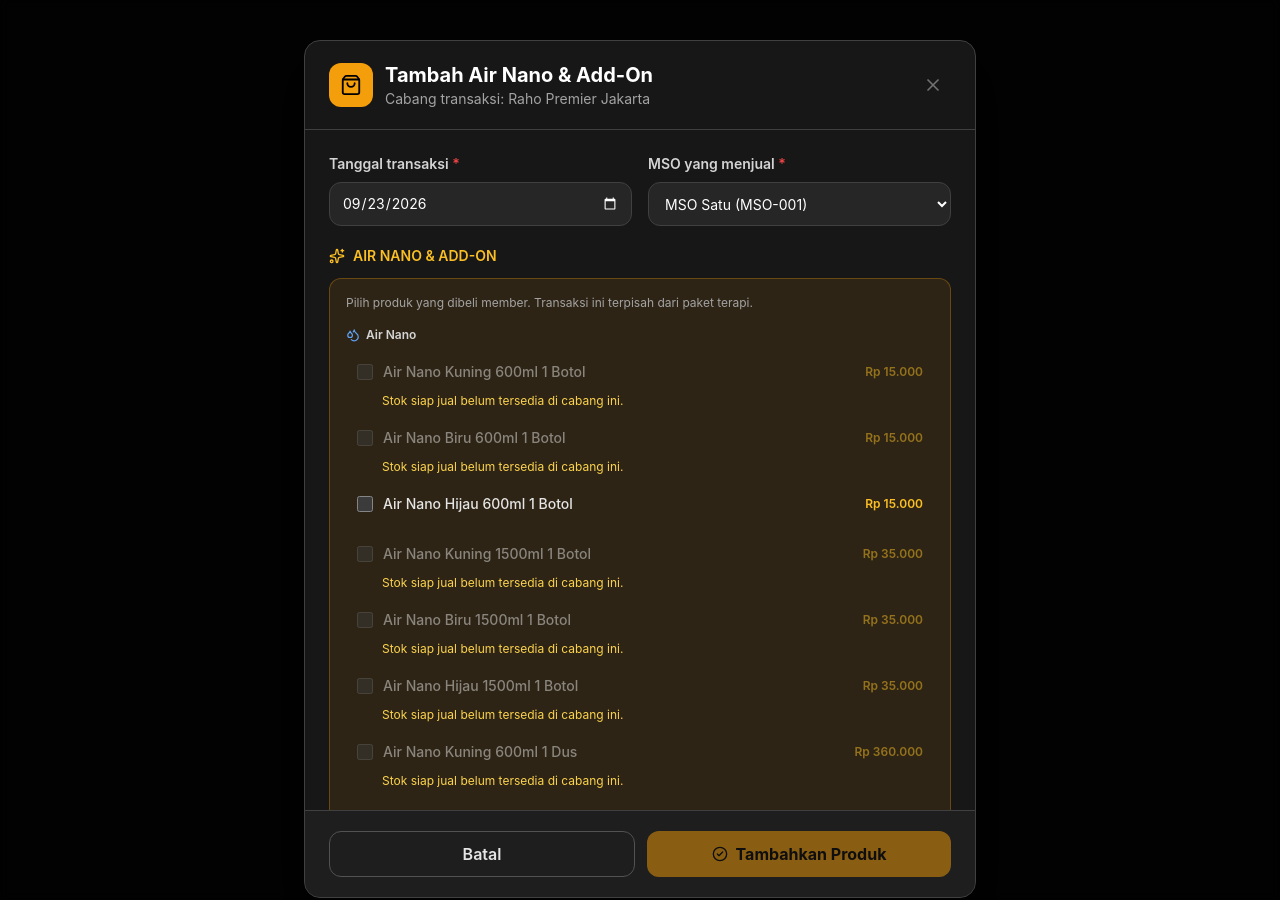
Test case: AssignAddOnModal › shows green Air Nano without H2S and enables it from HJU availability
The image size is (1280, 900).
Click the checkbox labelled "Air Nano Hijau 600ml 1 Botol Rp 15.000".
click(365, 504)  # box [357,496,373,512]
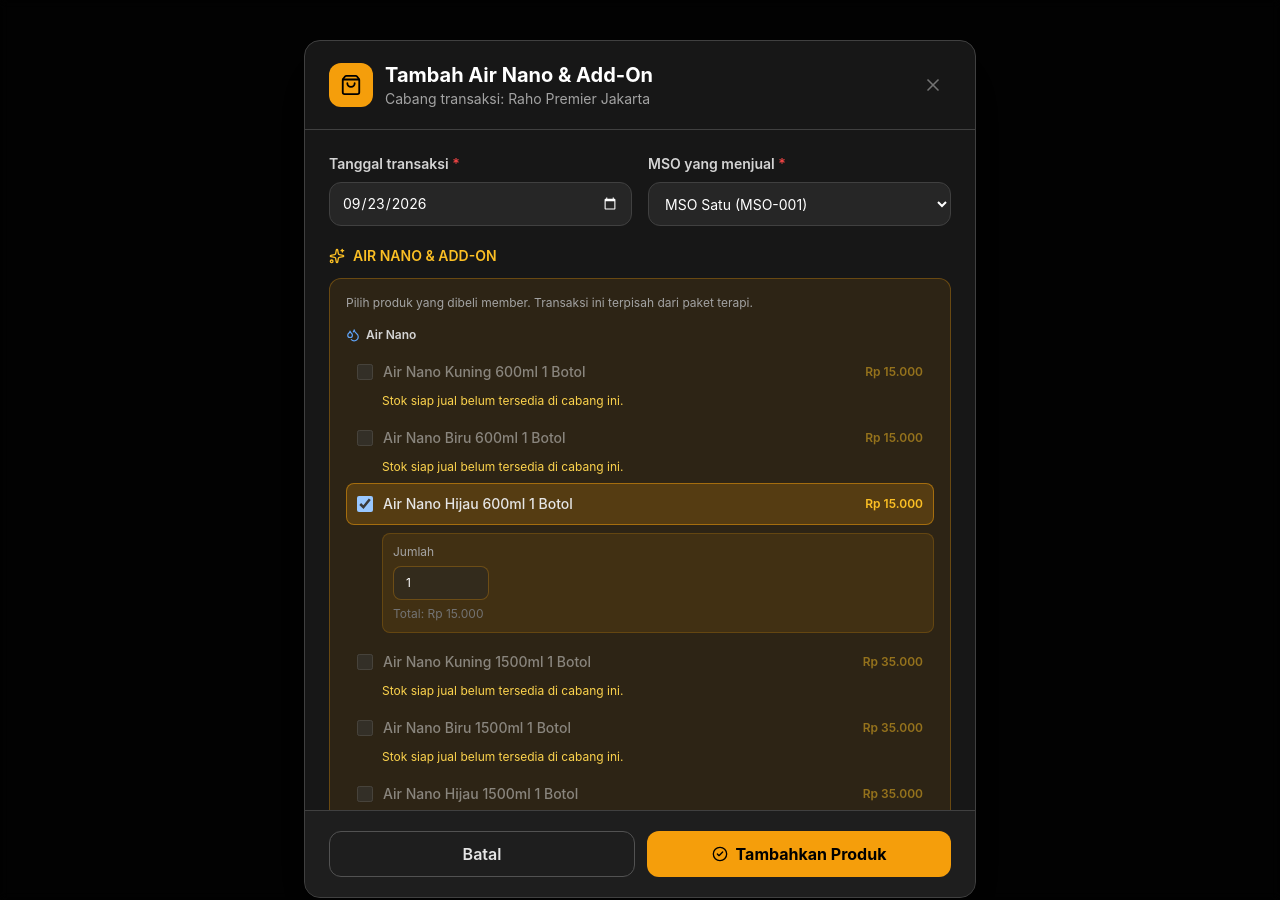
Now the button "Tambahkan Produk" is enabled, box [647,831,951,877]
